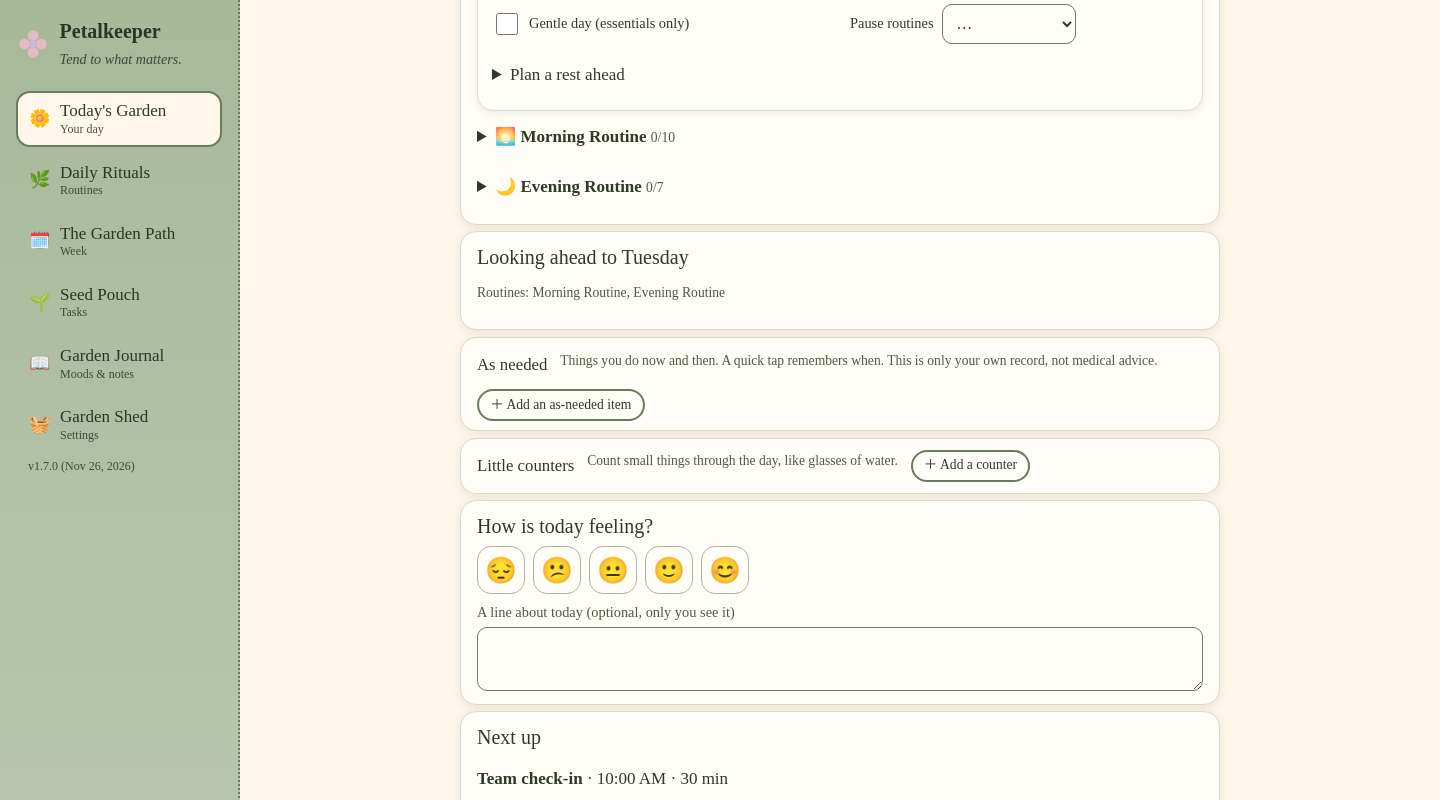
Test: screens › records an as-needed tap and a countdown
(page scrolled)
Click the button "＋ Add an as-needed item". click: (561, 405)
box: [477,389,645,421]
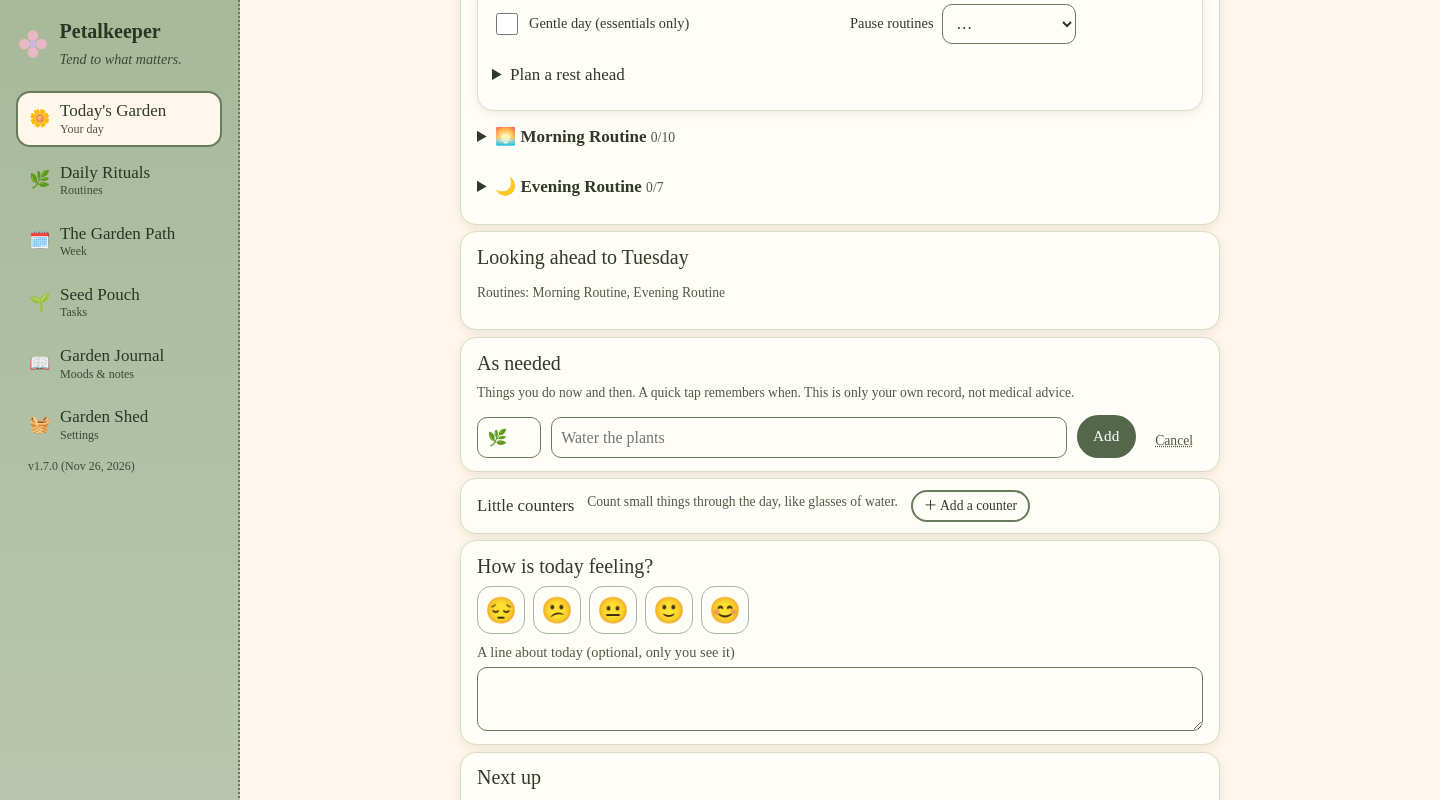
Type "Water plants" into the field named "As-needed name". click: (809, 438)
box: [551,417,1067,458]
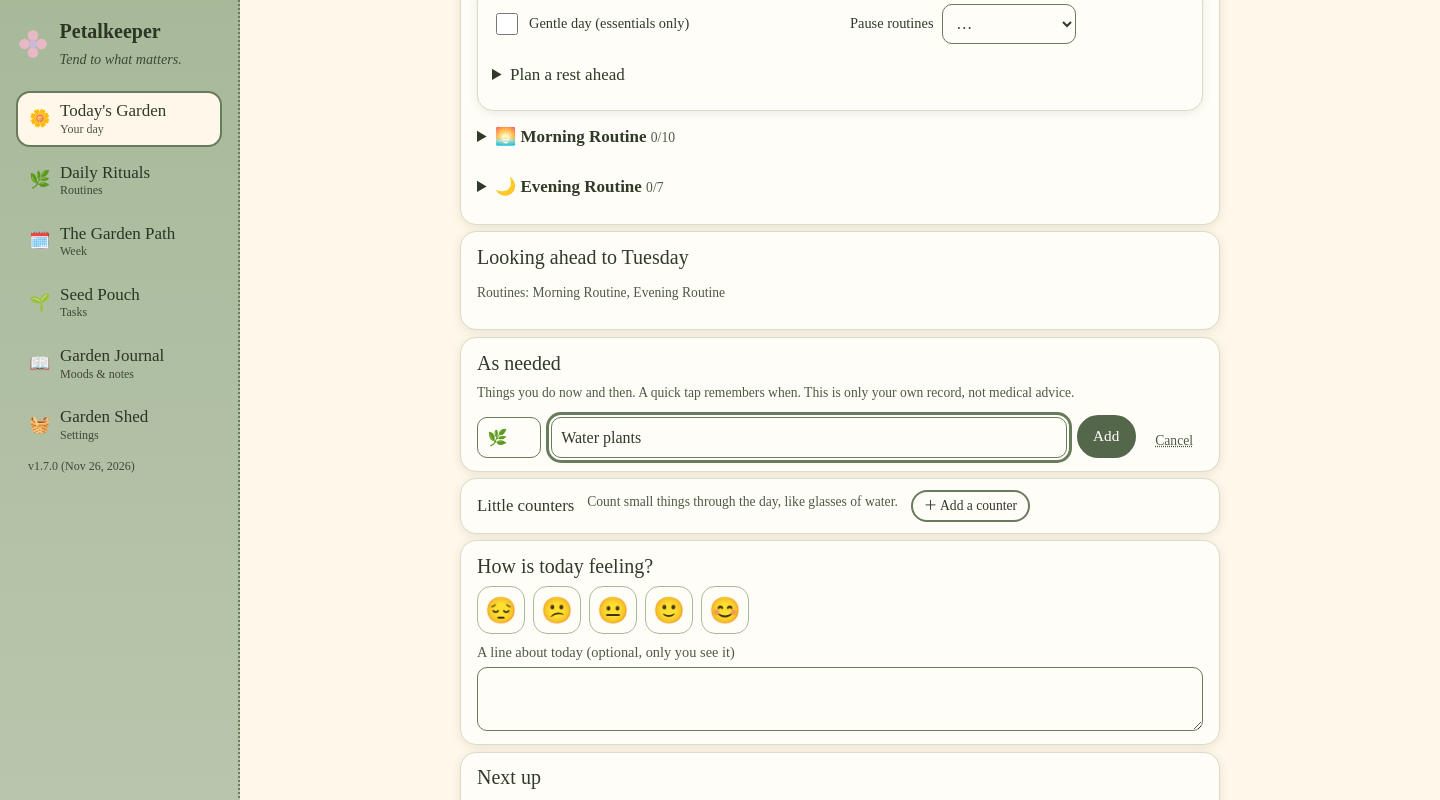
Click the button "Add". click: (1106, 436)
box: [1077,415,1136,458]
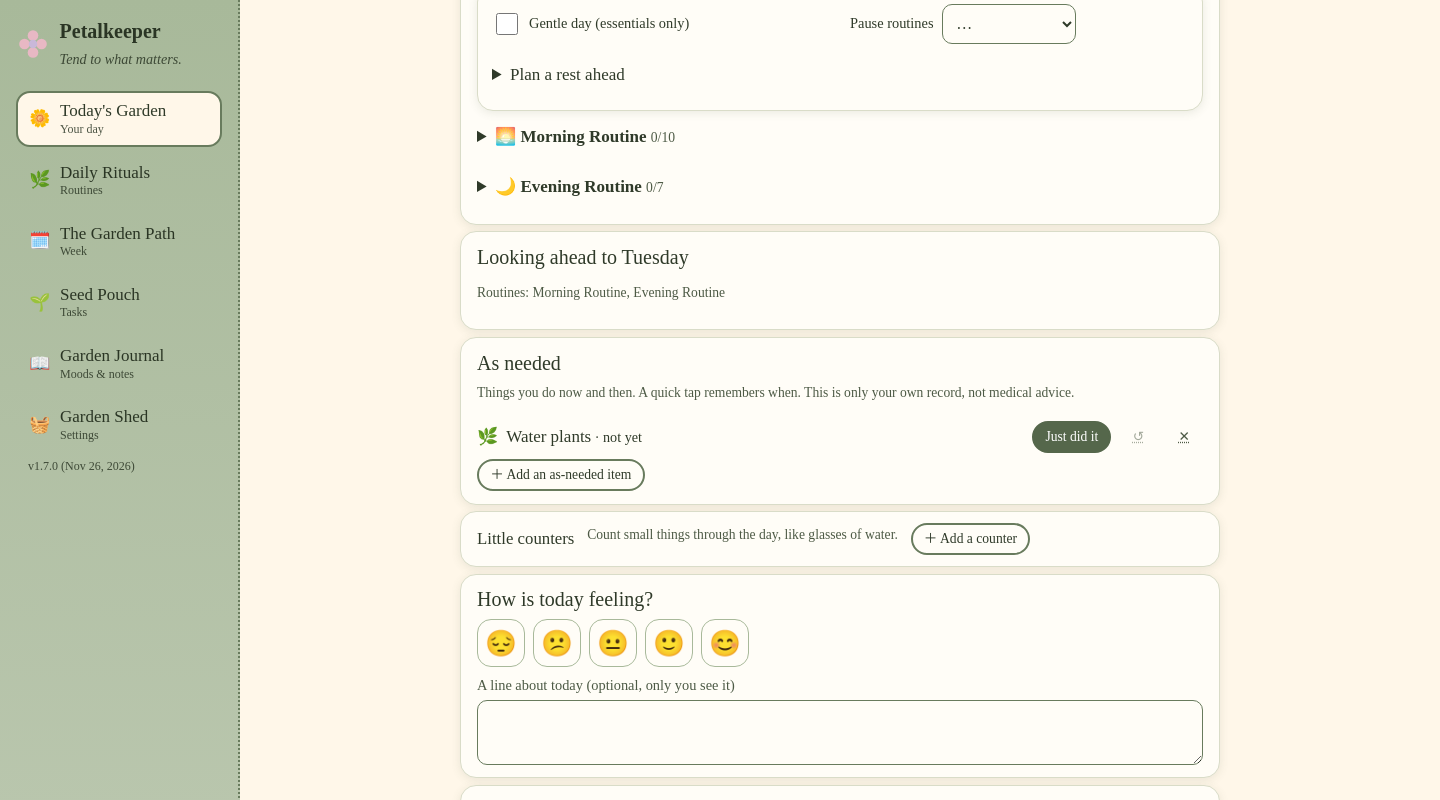
Click the button with aria-label "Just did: Water plants". click: (1072, 437)
box: [1032,421,1112,453]
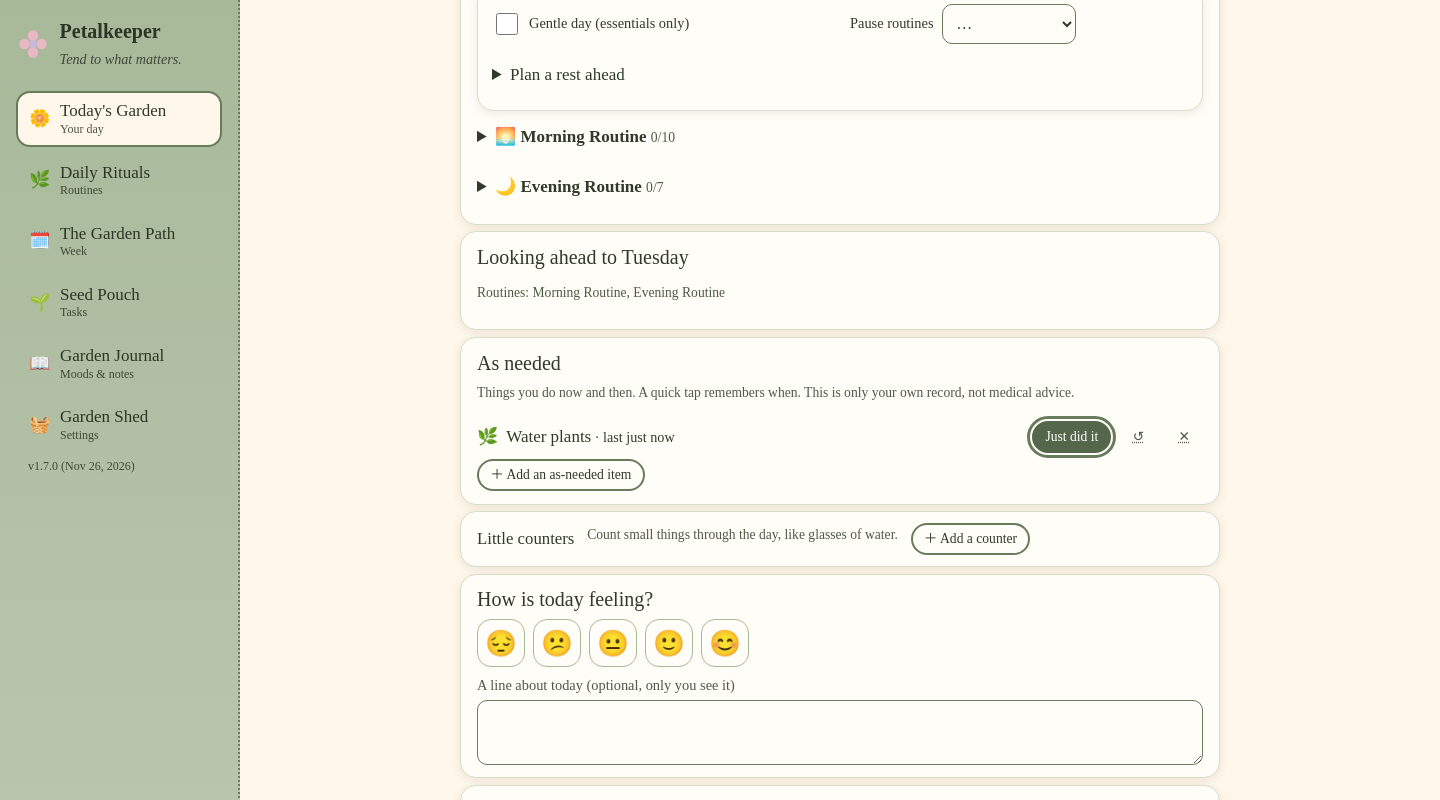
Expected: the text "· last just now" is shown, [591,429,675,445]
